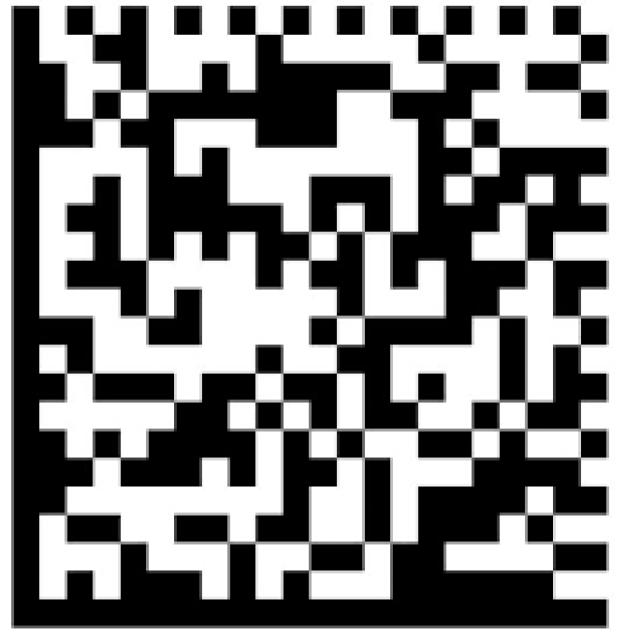datamatrix: (5, 3, 618, 637)
